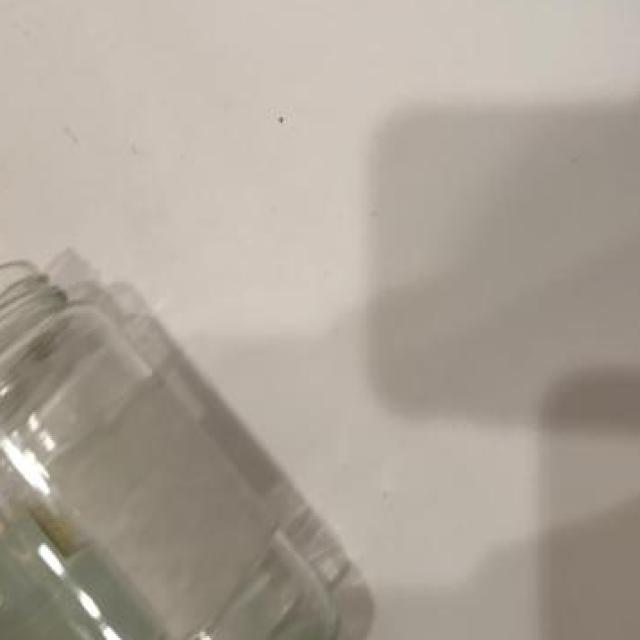organic: (0, 243, 313, 639)
